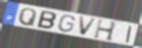B: (35, 10, 57, 31)
G: (57, 14, 76, 33)
H: (92, 18, 118, 42)
I: (125, 25, 133, 44)
Q: (17, 8, 38, 28)
V: (78, 16, 98, 37)
